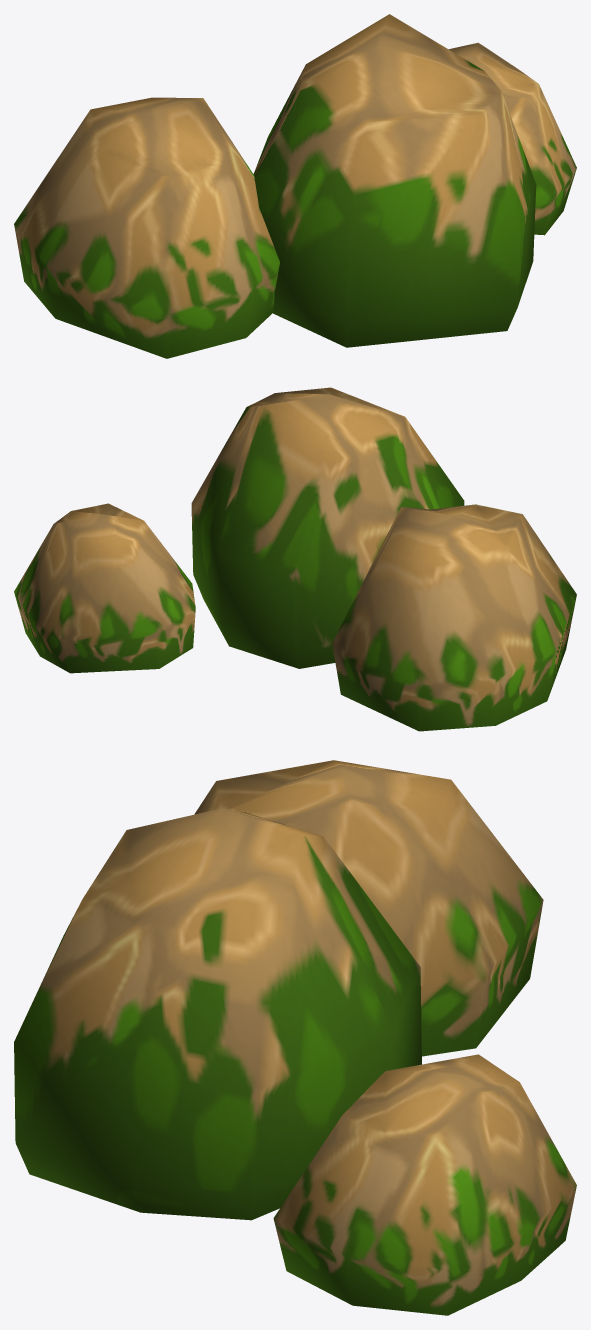
The model's file is RockGroup_01.FBX.
The picture shows the model from 3 angles, top to bottom: view 1: azimuth 30°, elevation 25°; view 2: azimuth 150°, elevation 25°; view 3: azimuth 270°, elevation 25°; orthographic projection. The views are drawn at different scales.
Parts seen in each view (by area): view 1: RockGroup_01; view 2: RockGroup_01; view 3: RockGroup_01.
Boxes of the visible parts, left/top/right/bottom form: RockGroup_01: left=14, top=14, right=576, bottom=358; RockGroup_01: left=14, top=387, right=576, bottom=731; RockGroup_01: left=14, top=760, right=576, bottom=1315.
Bounding box in the file's own units: 1.37 × 0.6183 × 0.9107.
